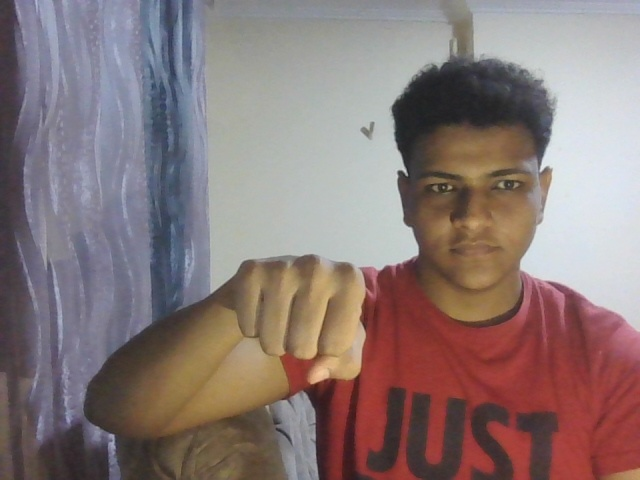yes: (225, 211, 384, 426)
